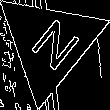N_SW: (19, 11, 80, 76)
